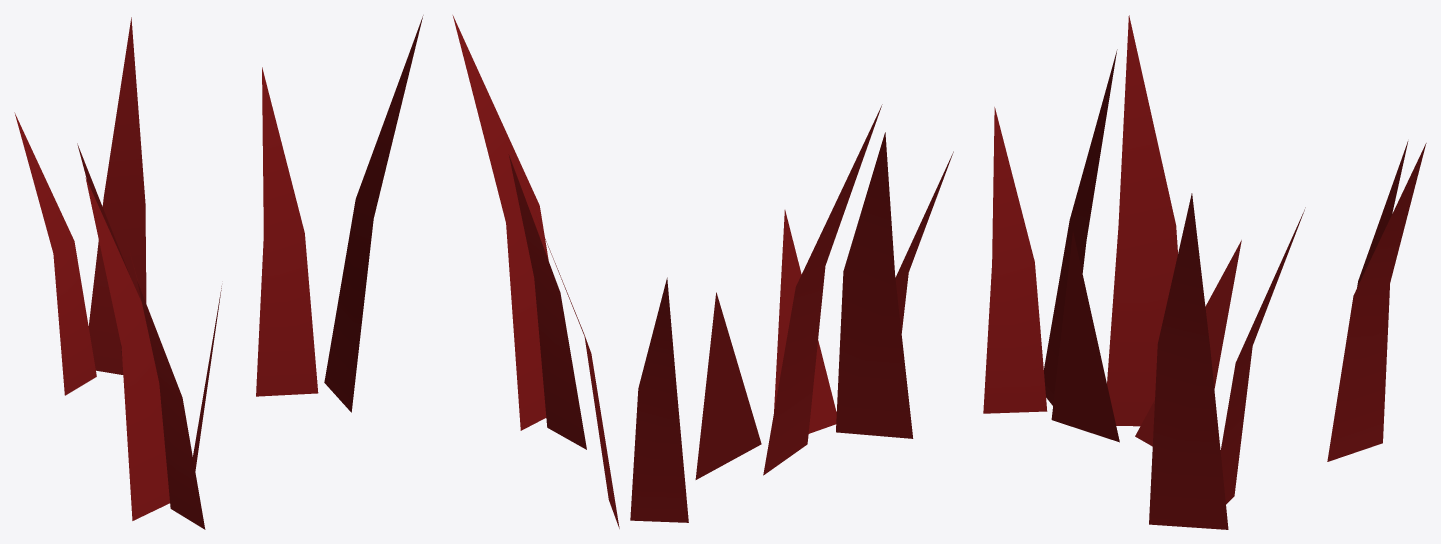
File: Model_Horde_Plants4.fbx
3 renders of one model, left to right at view 1: azimuth 30°, elevation 25°; view 2: azimuth 150°, elevation 25°; view 3: azimuth 270°, elevation 25°, orthographic. The views are drawn at different scales.
Visible parts, largest first — view 1: cao4; view 2: cao4; view 3: cao4.
Boxes of the visible parts, x1,y1,x2,y2 form: cao4: (14, 15, 423, 529); cao4: (452, 15, 953, 528); cao4: (983, 15, 1426, 529).
Size of the model in its own units: 69.52 by 66.55 by 66.72.
